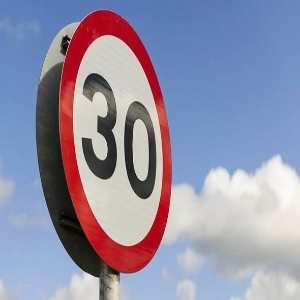30 speed: (59, 9, 173, 275)
